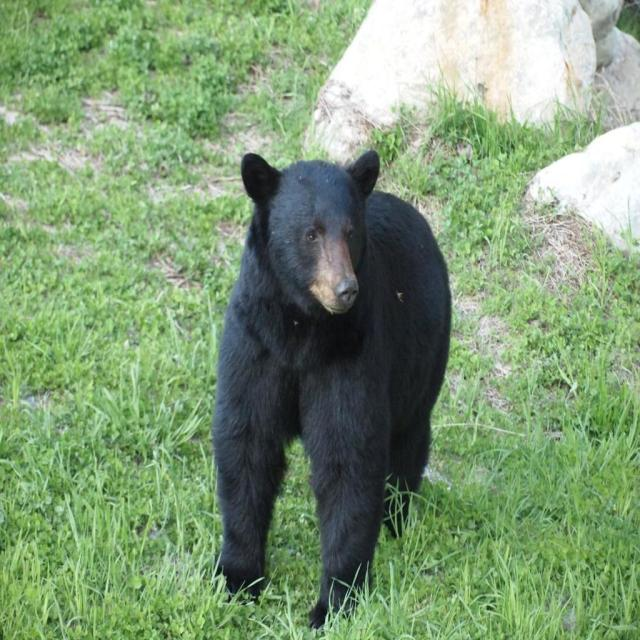Buffalo: (209, 150, 451, 632)
